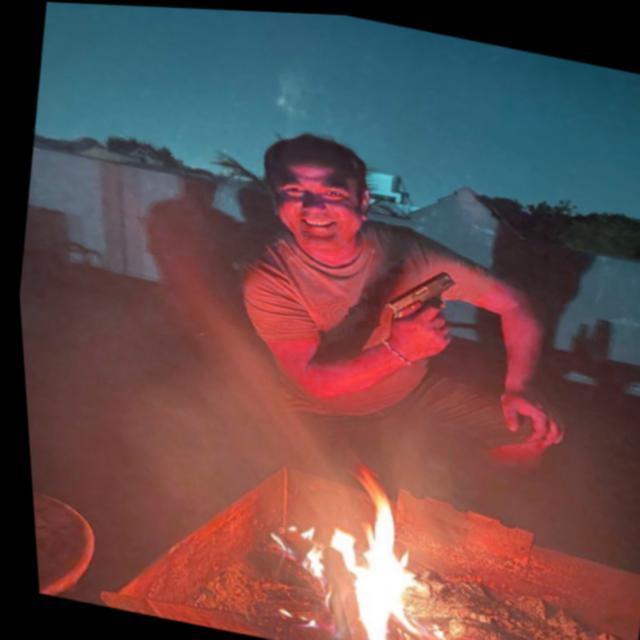weapon: (362, 252, 462, 346)
